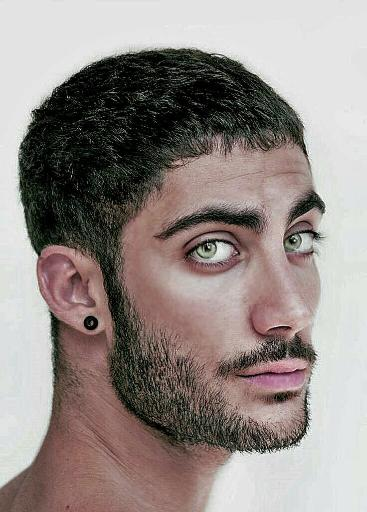left_eye: (284, 230, 319, 258)
left_lip_corner: (294, 359, 313, 381)
right_eye: (182, 235, 245, 272)
right_lip_corner: (234, 368, 253, 389)
